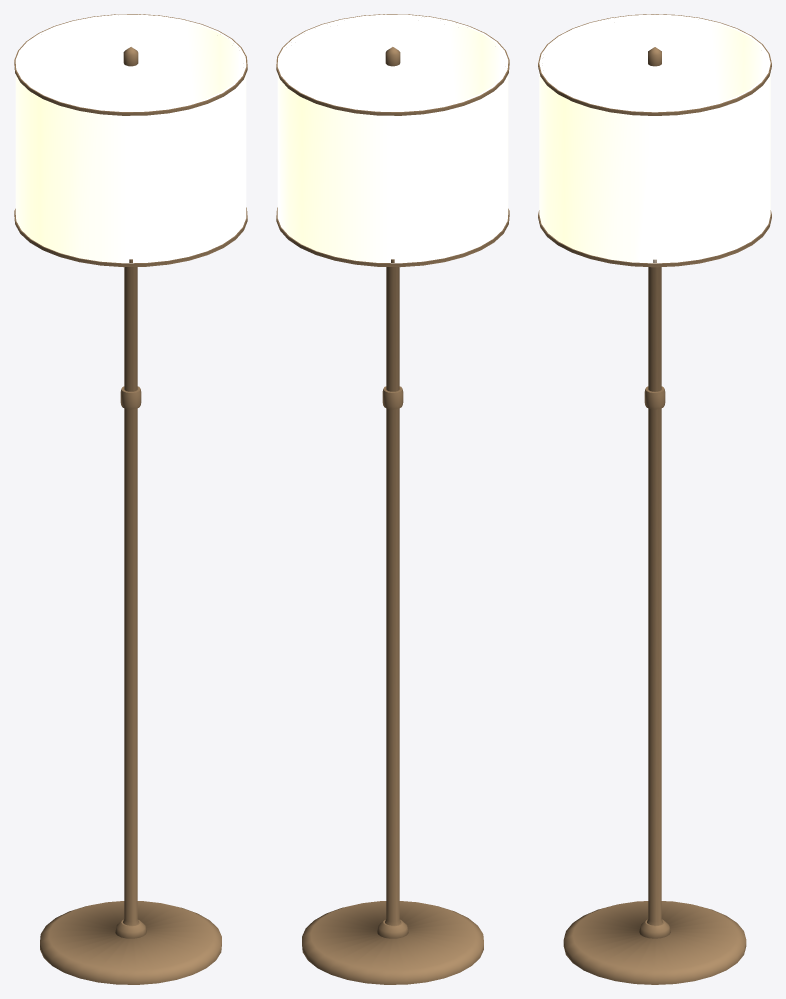
Rendered from library_floorlamp.gltf.
The picture shows the model from 3 angles, left to right: view 1: azimuth 30°, elevation 25°; view 2: azimuth 150°, elevation 25°; view 3: azimuth 270°, elevation 25°; orthographic projection.
Parts seen in each view (by area): view 1: LibraryFloorLamp_Shade, LibraryFloorLamp_Bronze; view 2: LibraryFloorLamp_Shade, LibraryFloorLamp_Bronze; view 3: LibraryFloorLamp_Shade, LibraryFloorLamp_Bronze.
Part boxes in pixels (x1=…): LibraryFloorLamp_Shade: x1=15, y1=14, x2=246, y2=263; LibraryFloorLamp_Bronze: x1=14, y1=14, x2=247, y2=984; LibraryFloorLamp_Shade: x1=277, y1=14, x2=508, y2=263; LibraryFloorLamp_Bronze: x1=276, y1=14, x2=509, y2=984; LibraryFloorLamp_Shade: x1=539, y1=14, x2=770, y2=263; LibraryFloorLamp_Bronze: x1=538, y1=14, x2=771, y2=984.
Size of the model in its own units: 0.384 by 1.63 by 0.384.
